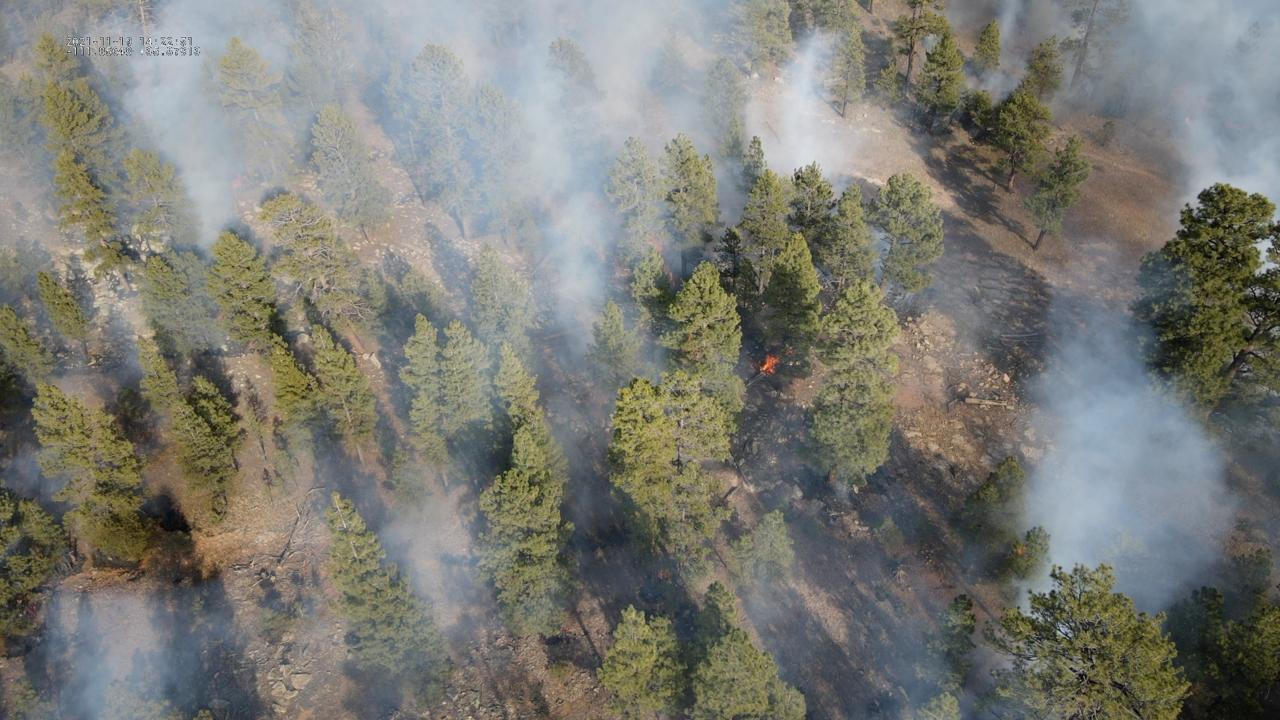fire: (757, 352, 782, 382), (647, 237, 664, 253), (656, 567, 672, 581), (667, 271, 677, 288), (1013, 545, 1027, 557)
smoke: (0, 0, 1280, 720)
